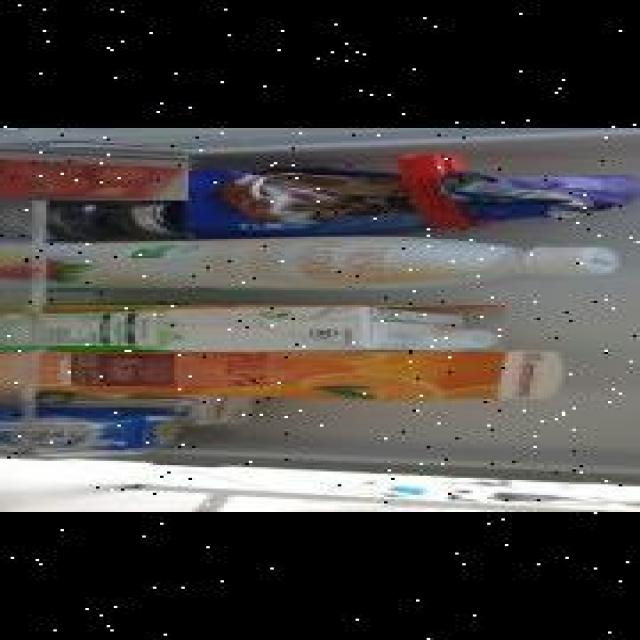milk: (0, 305, 501, 352)
tomato_sauce: (0, 147, 192, 201)
